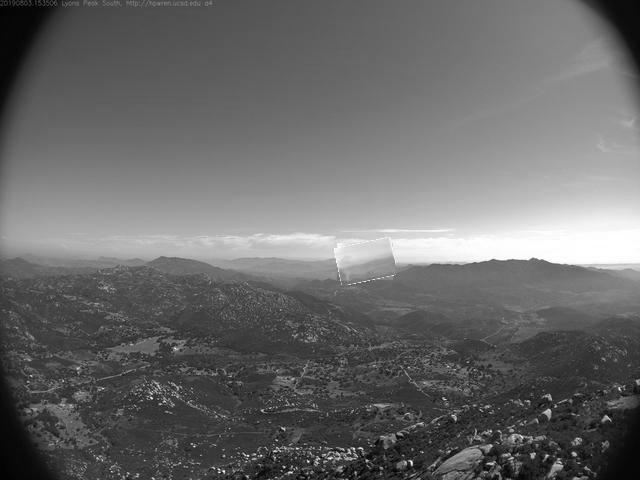smoke: (337, 241, 397, 285)
